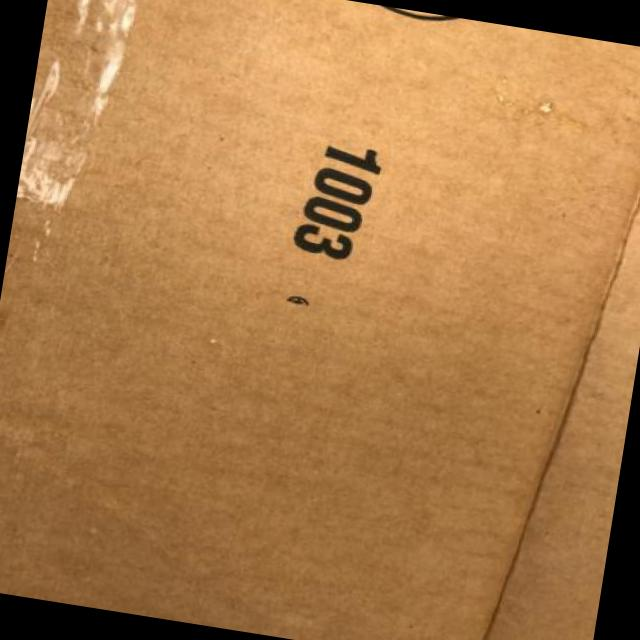cardboard: (0, 0, 639, 639), (486, 202, 639, 639)
